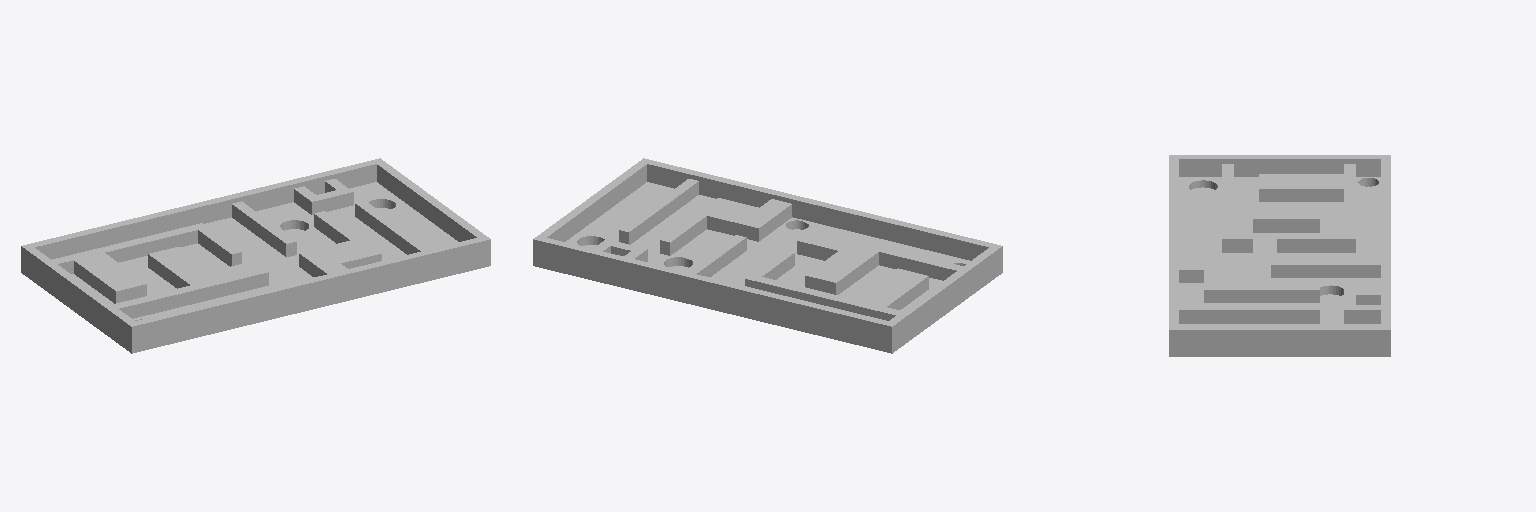
Rendered from night6.obj.
The picture shows the model from 3 angles: view 1: azimuth 30°, elevation 25°; view 2: azimuth 150°, elevation 25°; view 3: azimuth 270°, elevation 25°; orthographic projection.
Visible parts, largest first — view 1: Cube_Cube.002; view 2: Cube_Cube.002; view 3: Cube_Cube.002.
Boxes of the visible parts, <box> form: Cube_Cube.002: <box>21,158,490,353</box>; Cube_Cube.002: <box>533,158,1002,353</box>; Cube_Cube.002: <box>1169,155,1390,356</box>.
Bounding box in the file's own units: 4.2 × 0.3 × 2.24.